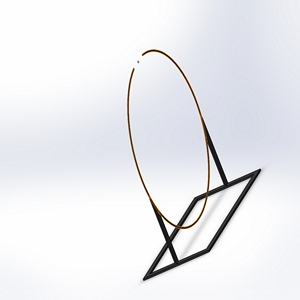circle: (124, 47, 262, 282)
